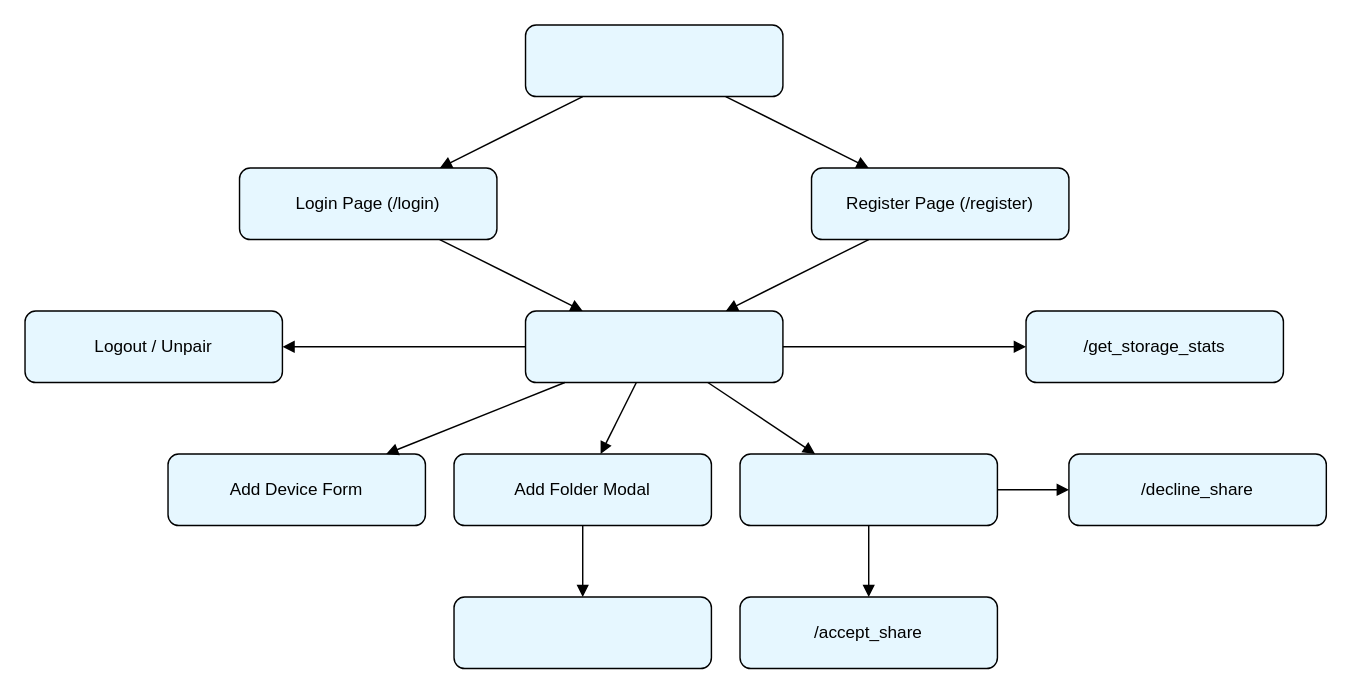
The diagram is 1351 pixels wide and 694 high, and some of its shapes have lost their labels. Here are the shapes that lost their labels. From the top down, the centre of each, then its label:
point (653, 60): Pair Page (/pair)
point (653, 346): Dashboard (/dashboard)
point (868, 489): Folder Share Alerts
point (582, 632): /submit_folder
